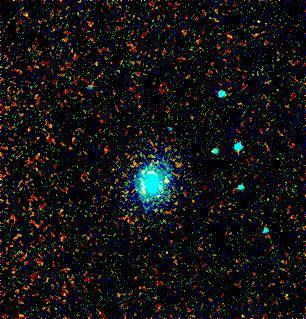star: (150, 165, 180, 195)
